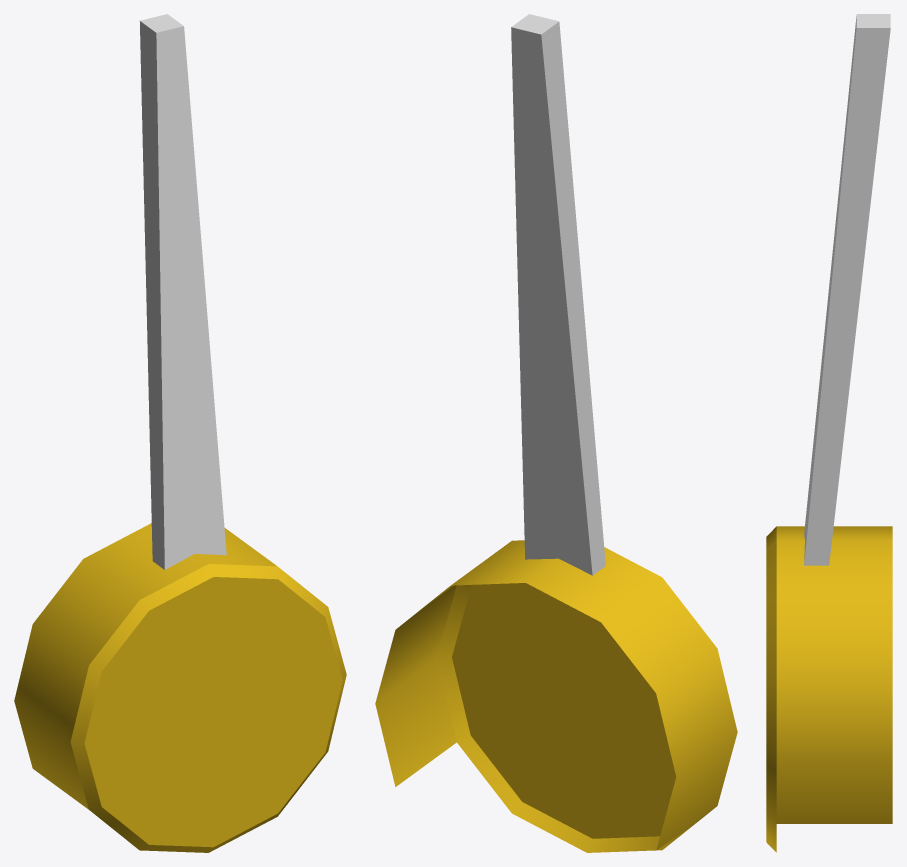
Rendered from propsMaison_ClockPendule.fbx.
3 views of the same model, side by side, from view 1: azimuth 30°, elevation 25°; view 2: azimuth 150°, elevation 25°; view 3: azimuth 270°, elevation 25° (orthographic). The views are drawn at different scales.
Parts seen in each view (by area): view 1: Cylinder; view 2: Cylinder; view 3: Cylinder.
Boxes of the visible parts, bbox=[...] form: Cylinder: bbox=[14, 14, 346, 852]; Cylinder: bbox=[375, 14, 737, 852]; Cylinder: bbox=[766, 14, 892, 852].
Bounding box in the file's own units: 131 × 360 × 50.39.
